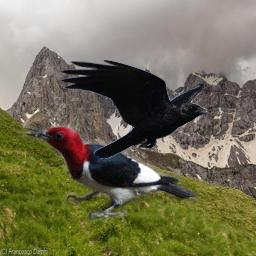Crow: (59, 58, 210, 159)
Woodpecker: (17, 121, 201, 224)
